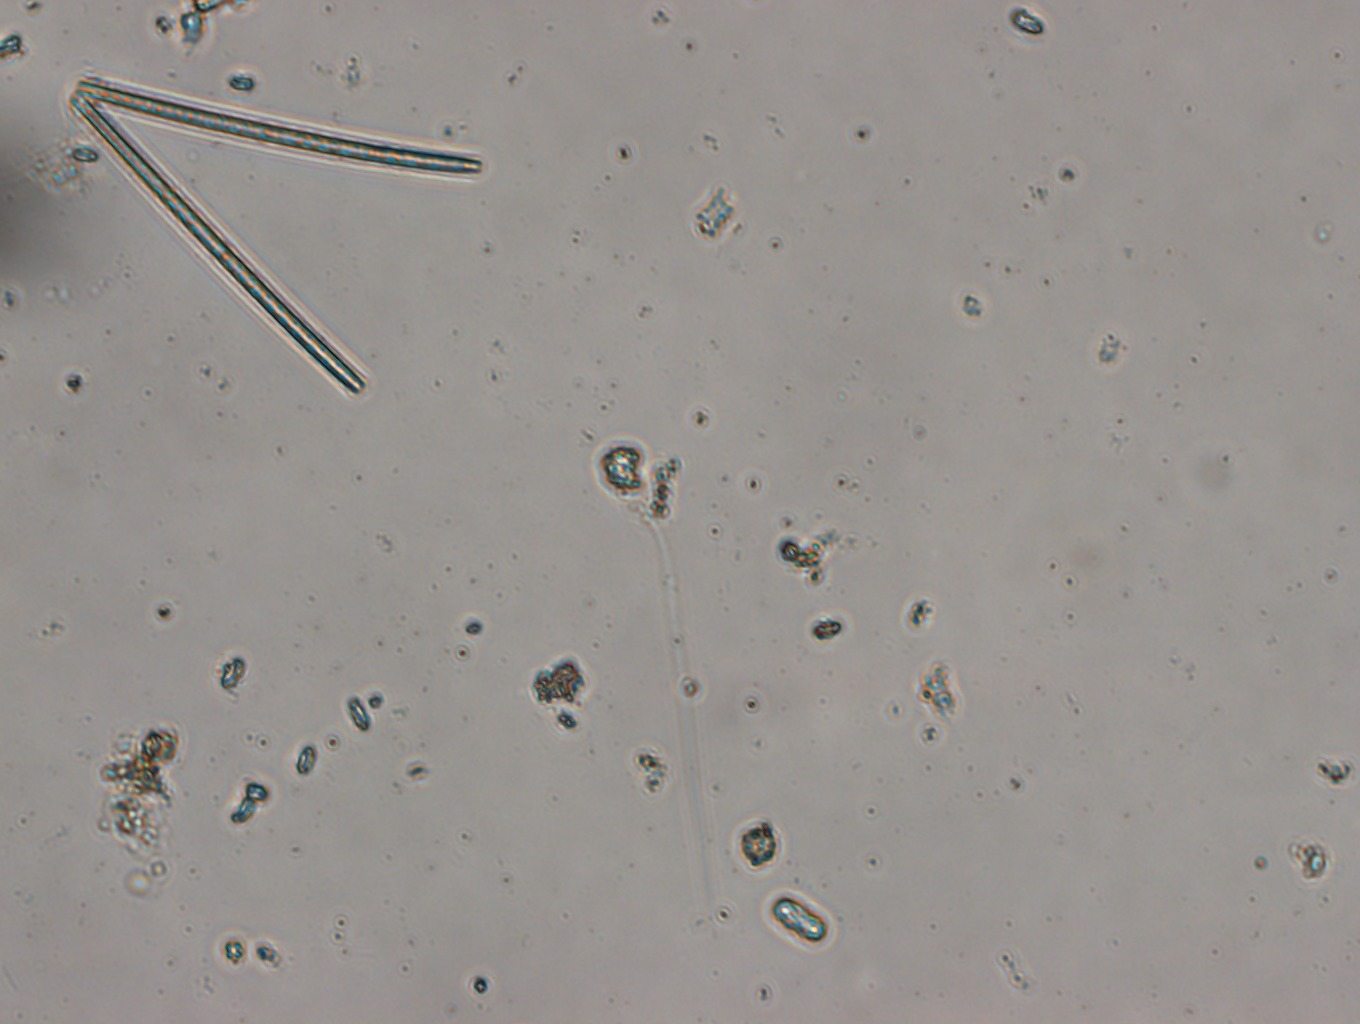thalassionema frauenfeldii: (68, 76, 482, 396)
